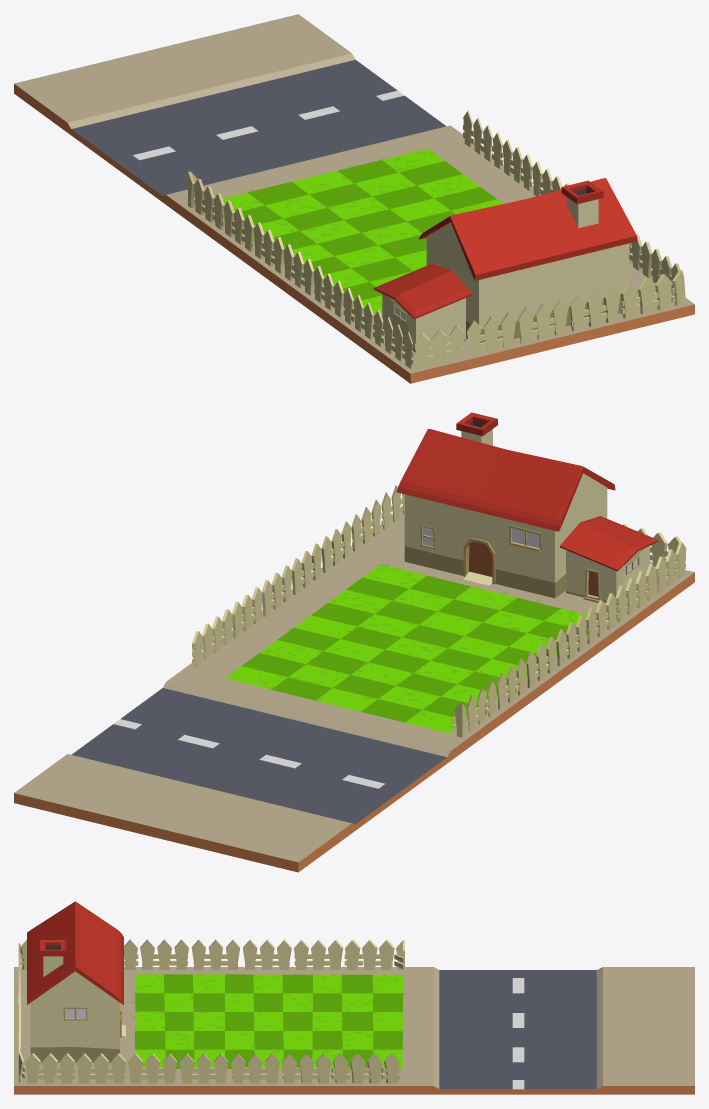
Rendered from House&Garden.glb.
3 renders of one model, top to bottom at view 1: azimuth 30°, elevation 25°; view 2: azimuth 150°, elevation 25°; view 3: azimuth 270°, elevation 25°, orthographic. The views are drawn at different scales.
Visible parts, largest first — view 1: Field, MainHouse, Fence, SideHouse, HorFence, Plane, Chimney; view 2: Field, MainHouse, Fence, SideHouse, Plane, HorFence, Chimney; view 3: Field, Fence, MainHouse, Plane, HorFence, Chimney.
Boxes of the visible parts, bbox=[...] form: Field: bbox=[14, 14, 694, 383]; MainHouse: bbox=[418, 178, 637, 342]; Fence: bbox=[188, 110, 685, 369]; SideHouse: bbox=[373, 264, 472, 352]; HorFence: bbox=[194, 124, 674, 364]; Plane: bbox=[224, 151, 483, 312]; Chimney: bbox=[561, 180, 603, 228]; Field: bbox=[14, 511, 694, 872]; MainHouse: bbox=[396, 429, 615, 598]; Fence: bbox=[192, 485, 686, 737]; SideHouse: bbox=[560, 516, 658, 602]; Plane: bbox=[235, 563, 575, 727]; HorFence: bbox=[192, 497, 685, 730]; Chimney: bbox=[456, 412, 497, 445]; Field: bbox=[14, 967, 694, 1094]; Fence: bbox=[18, 939, 404, 1083]; MainHouse: bbox=[27, 901, 125, 1062]; Plane: bbox=[130, 973, 406, 1067]; HorFence: bbox=[20, 954, 404, 1079]; Chimney: bbox=[40, 940, 66, 976].
Size of the model in its own units: 18.9 by 8.26 by 45.64.
15 materials, 1 textured.
